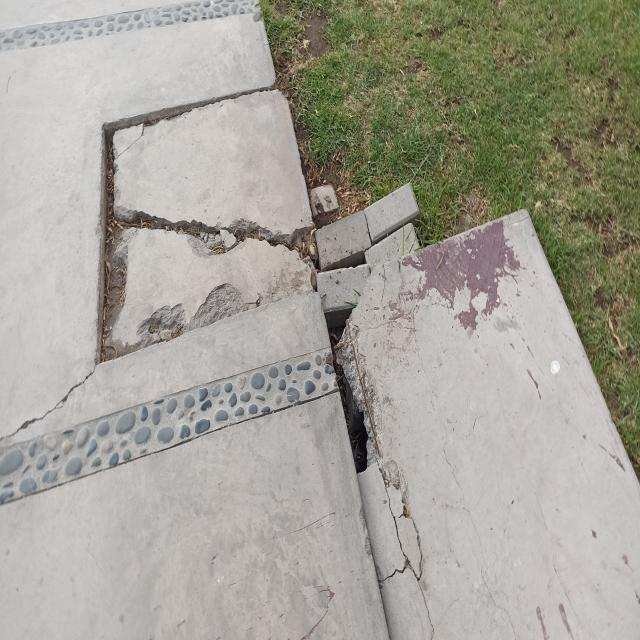bump: (98, 99, 214, 136)
hole: (94, 88, 323, 382), (322, 306, 384, 478)
